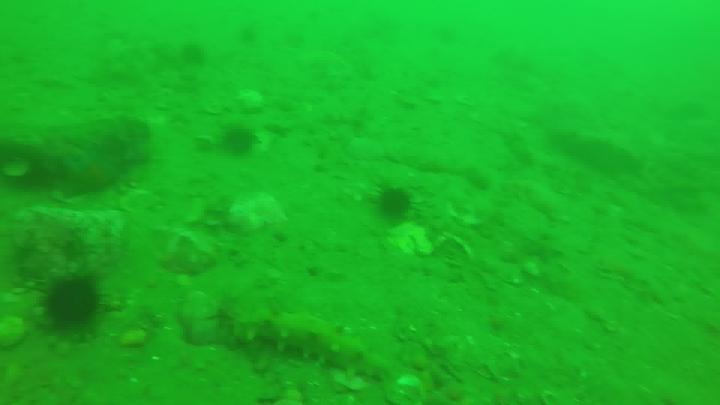echinus: (42, 273, 108, 327), (371, 187, 426, 222), (220, 124, 259, 155), (183, 44, 205, 67)
holothurian: (237, 301, 389, 385)
scallop: (116, 190, 161, 217), (388, 374, 427, 405)
